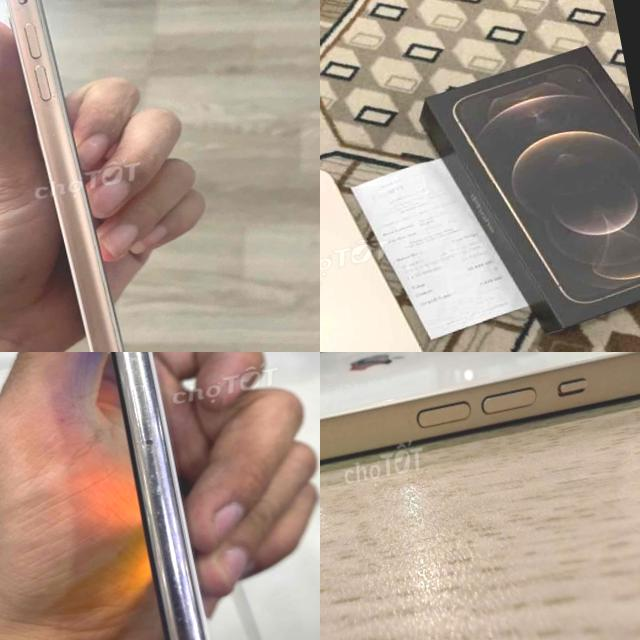gen_12_13: (320, 352, 640, 514), (320, 152, 445, 352)
gen_7_8: (0, 0, 149, 352)
gen_x_xs: (110, 352, 208, 640)
